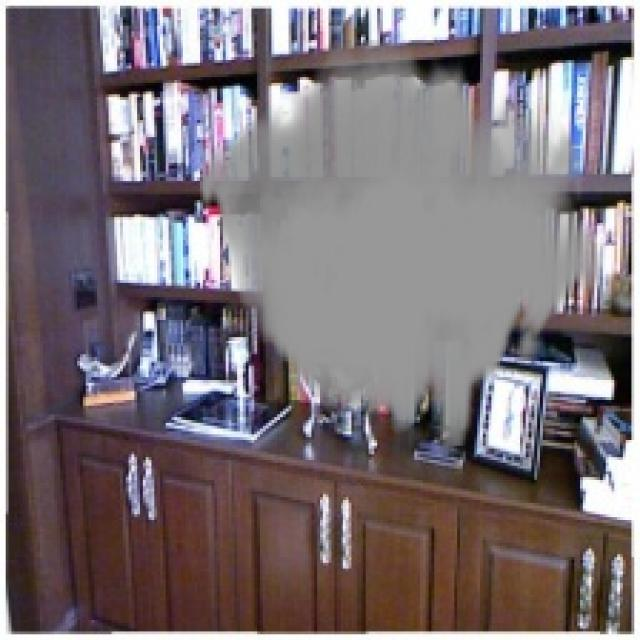smoke: (197, 40, 603, 446)
